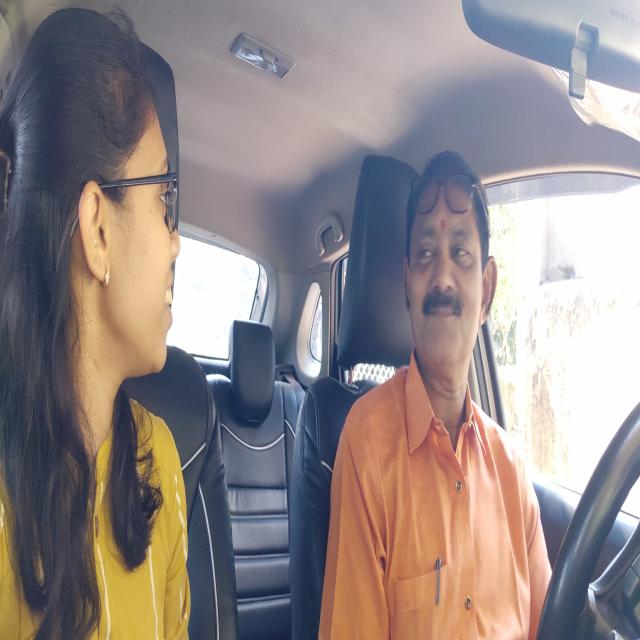LeftRight: (396, 132, 502, 410)
person: (12, 9, 188, 462)
talking: (414, 278, 463, 334), (157, 272, 180, 338)
